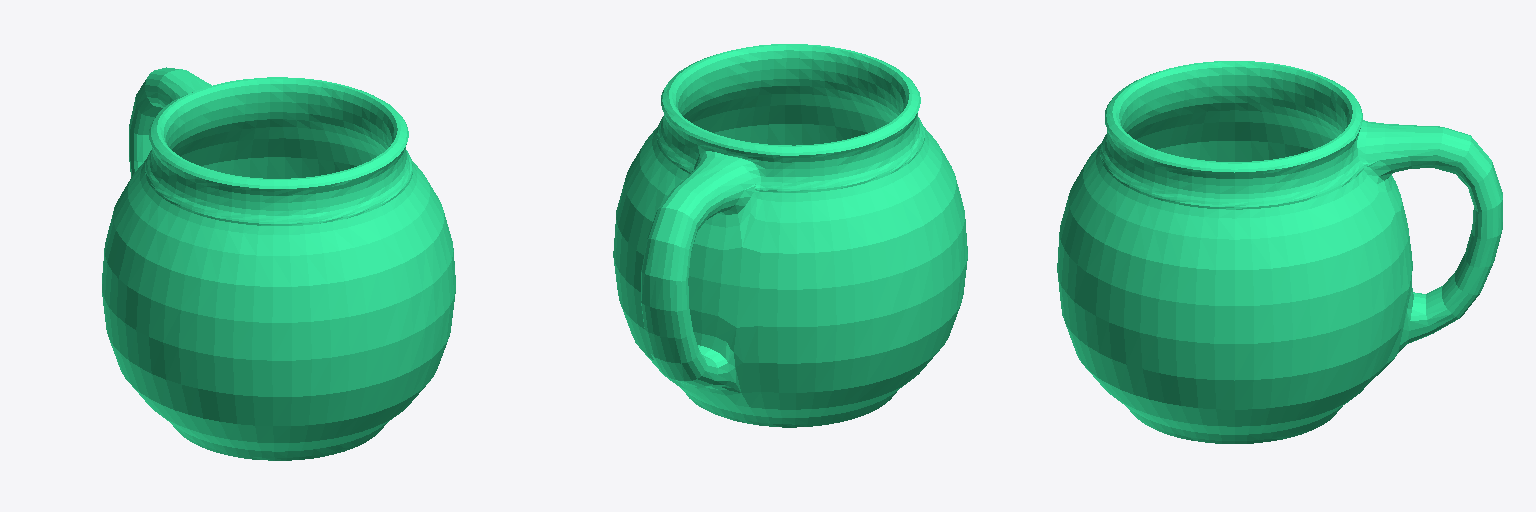
File: cup.obj
3 views of the same model, side by side, from view 1: azimuth 30°, elevation 25°; view 2: azimuth 150°, elevation 25°; view 3: azimuth 270°, elevation 25° (orthographic).
Visible parts, largest first — view 1: Mug; view 2: Mug; view 3: Mug.
Part boxes in pixels (bbox=[...]): Mug: bbox=[102, 67, 455, 460]; Mug: bbox=[613, 44, 967, 427]; Mug: bbox=[1057, 61, 1502, 443].
Bounding box in the file's own units: 0.0597 × 0.0535 × 0.0751.